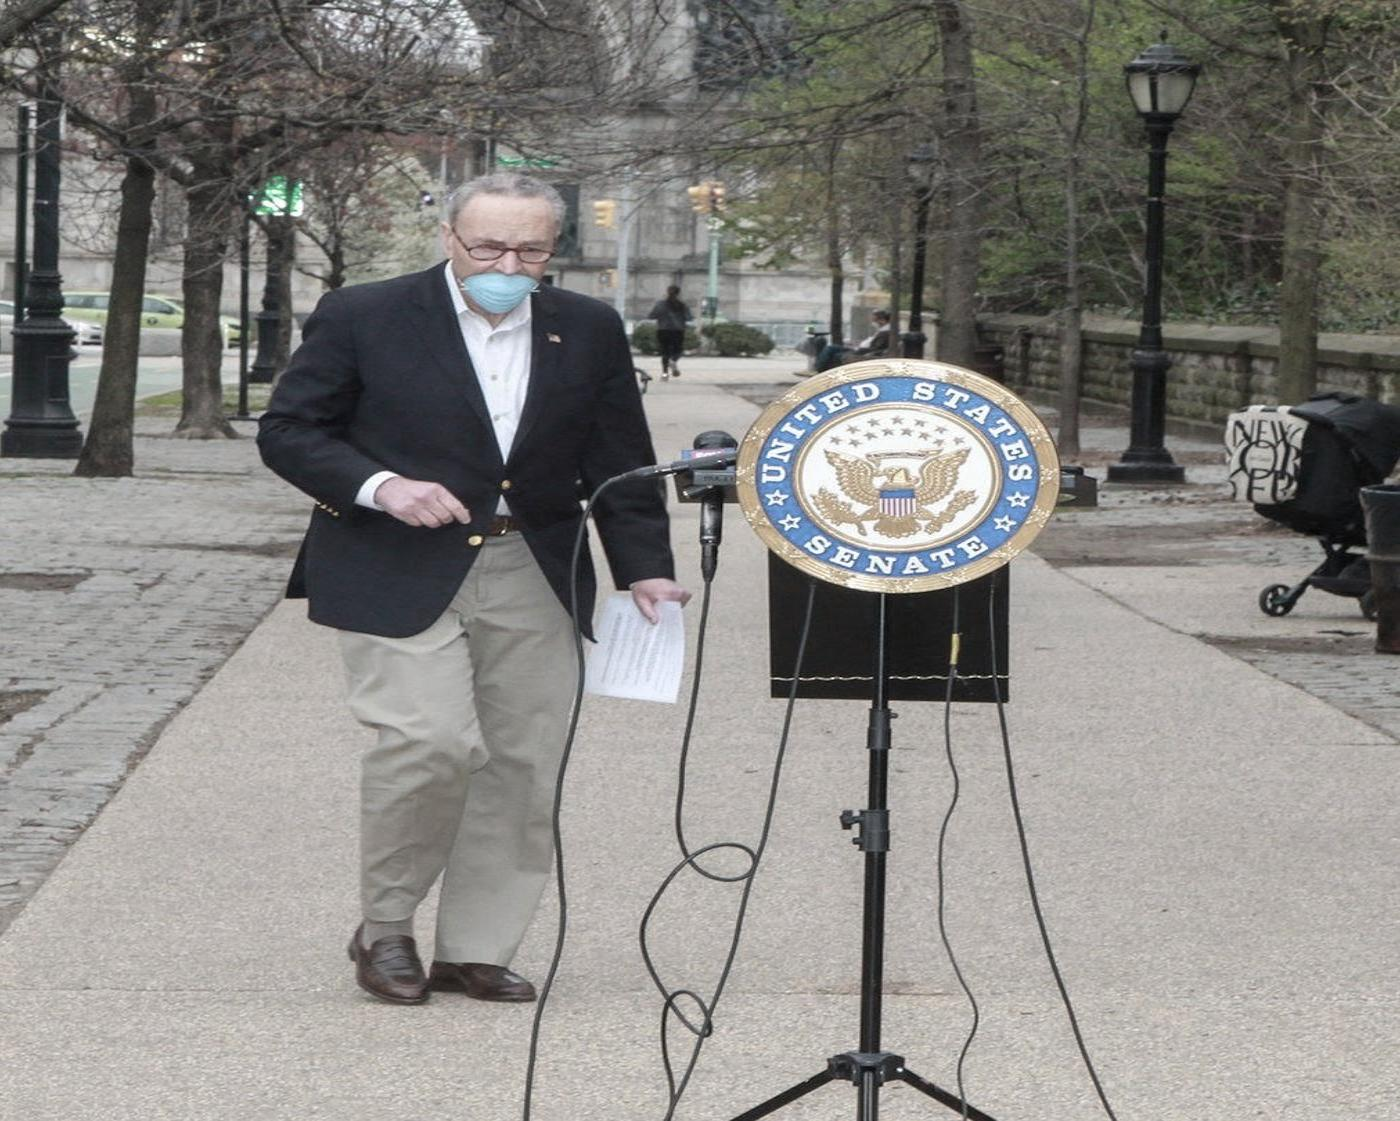mask_weared_incorrect: (435, 172, 568, 319)
